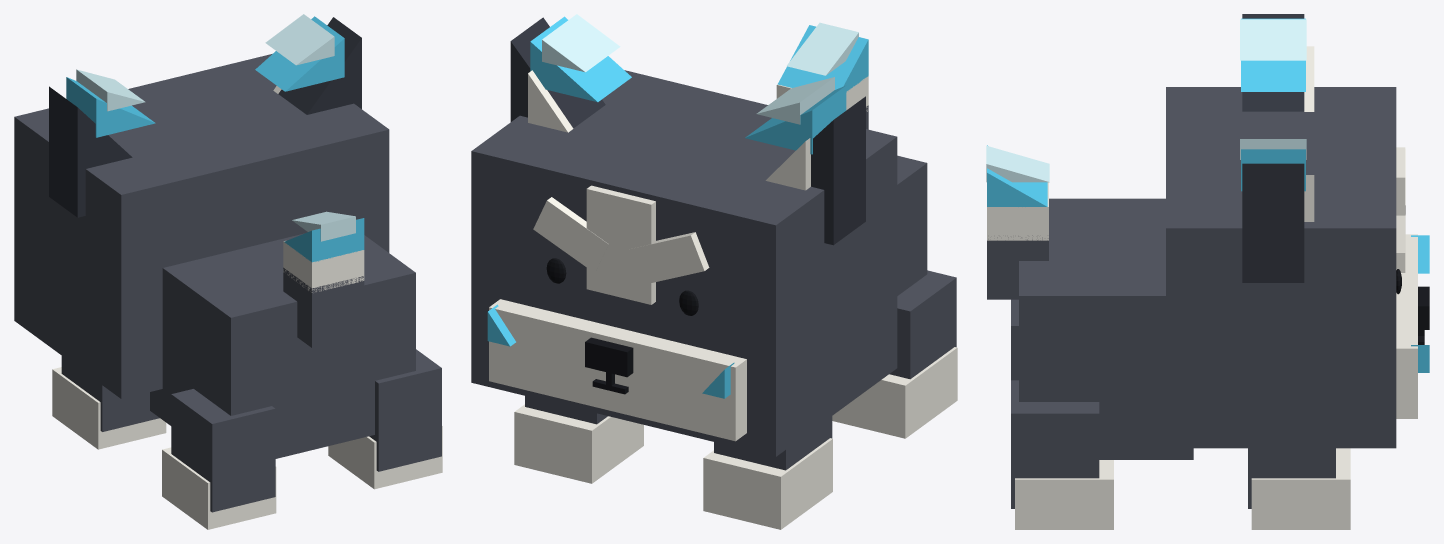
The model's file is Husky_Block.glb.
3 views of the same model, side by side, from view 1: azimuth 30°, elevation 25°; view 2: azimuth 150°, elevation 25°; view 3: azimuth 270°, elevation 25° (orthographic). The views are drawn at different scales.
Parts seen in each view (by area): view 1: BigHead, ShortTorso, LegBL_Leg, LegBR_Leg, EarL, TailRoot, LegBL_Paw, LegFL_Paw, EarR, LegBR_Paw, EarIceCapR, TailWhiteBand (+6 smaller); view 2: BigHead, WhiteMuzzle, LegFL_Paw, LegFR_Paw, MaskBlaze, EarL, LegBL_Paw, LegBL_Leg, ShortTorso, EarIceCapR, EarR, EarIceGlintR (+13 smaller); view 3: BigHead, ShortTorso, EarR, LegBR_Leg, LegFR_Paw, LegBR_Paw, WhiteMuzzle, LegFR_Leg, EarIceGlintL, TailRoot, EarIceCapL, TailWhiteBand (+9 smaller).
Part boxes in pixels (x1,y1,x2,y2): BigHead: (14,54,389,398); ShortTorso: (150,233,415,458); LegBL_Leg: (171,389,275,512); LegBR_Leg: (369,349,441,471); EarL: (49,86,132,217); TailRoot: (283,267,364,347); LegBL_Paw: (162,447,276,529); LegFL_Paw: (52,367,166,449); EarR: (278,17,361,114); LegBR_Paw: (328,426,442,489); EarIceCapR: (255,16,344,91); TailWhiteBand: (283,241,364,292); BigHead: (471,70,897,456); WhiteMuzzle: (489,299,746,441); LegFL_Paw: (703,438,832,529); LegFR_Paw: (514,404,643,483); MaskBlaze: (586,185,655,304); EarL: (811,96,865,245); LegBL_Paw: (832,347,957,438); LegBL_Leg: (889,270,956,379); ShortTorso: (897,155,927,295); EarIceCapR: (530,16,631,102); EarR: (510,17,605,128); EarIceGlintR: (542,14,620,72); BigHead: (1166,87,1396,448); ShortTorso: (1019,198,1193,459); EarR: (1242,163,1304,282); LegBR_Leg: (1011,380,1099,508); LegFR_Paw: (1251,448,1350,529); LegBR_Paw: (1015,460,1113,529); WhiteMuzzle: (1396,234,1417,418); LegFR_Leg: (1248,448,1335,508); EarIceGlintL: (1240,19,1306,60); TailRoot: (987,235,1048,299); EarIceCapL: (1241,18,1305,91); TailWhiteBand: (987,182,1048,240).
Size of the model in its own units: 2.29 by 2.78 by 2.86.
